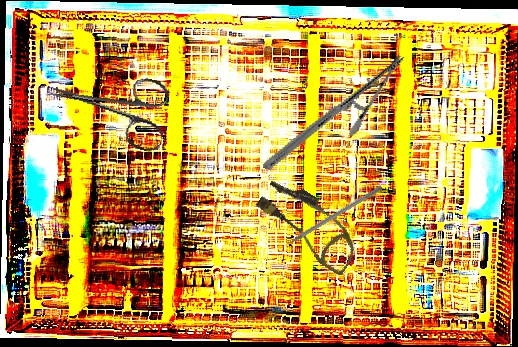Cannula: (248, 172, 370, 277)
Hook Surgical: (275, 184, 383, 252)
Iris Scissors: (39, 57, 175, 154)
Needle Holder: (262, 23, 405, 202)
